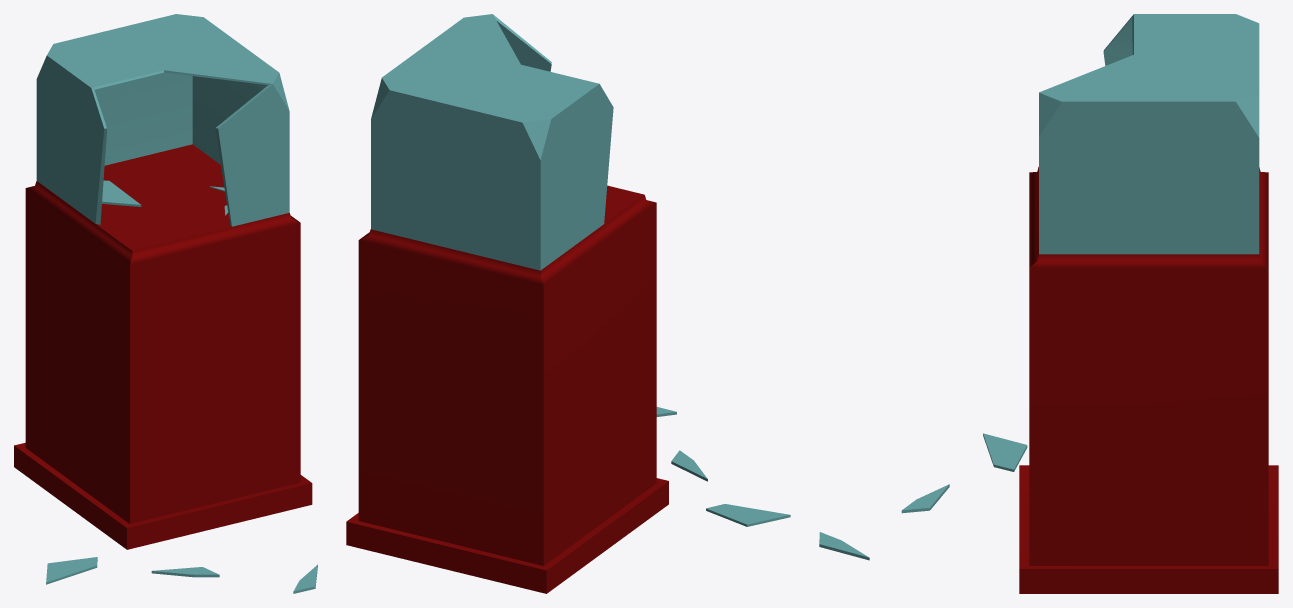
Rendered from BrokenDisplayCase_low.fbx.
The picture shows the model from 3 angles, left to right: view 1: azimuth 30°, elevation 25°; view 2: azimuth 150°, elevation 25°; view 3: azimuth 270°, elevation 25°; orthographic projection. The views are drawn at different scales.
Visible parts, largest first — view 1: CaseBase_low, BrokenCase_low, ShardD_low, ShardA_low, ShardF_low; view 2: CaseBase_low, BrokenCase_low, ShardD_low; view 3: CaseBase_low, BrokenCase_low, ShardD_low.
Boxes of the visible parts, x1,y1,x2,y2 form: CaseBase_low: (14,144,312,549); BrokenCase_low: (36,14,289,226); ShardD_low: (46,557,97,584); ShardA_low: (102,180,141,206); ShardF_low: (151,567,219,577); CaseBase_low: (346,185,668,593); BrokenCase_low: (371,14,613,270); ShardD_low: (706,504,790,526); CaseBase_low: (1019,166,1278,593); BrokenCase_low: (1039,14,1259,254); ShardD_low: (983,433,1027,471).
Size of the model in its own units: 93.55 by 134 by 115.
